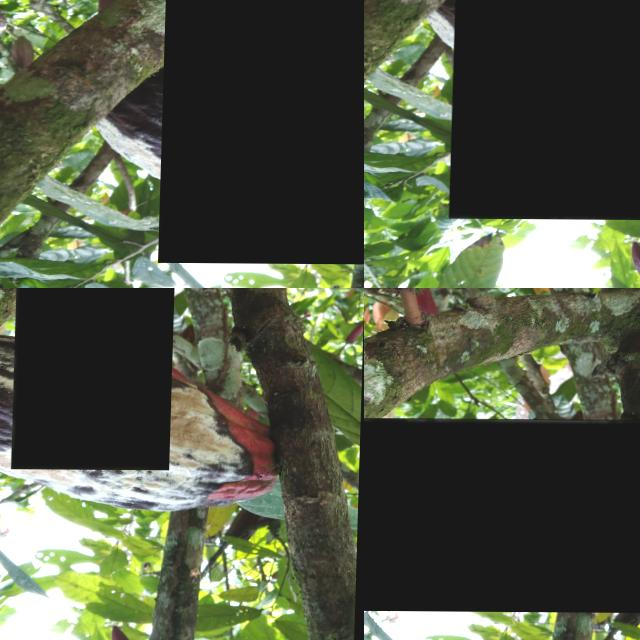Monilia: (364, 417, 640, 611), (452, 0, 640, 219)
Sana: (161, 0, 364, 263), (13, 288, 176, 469)
